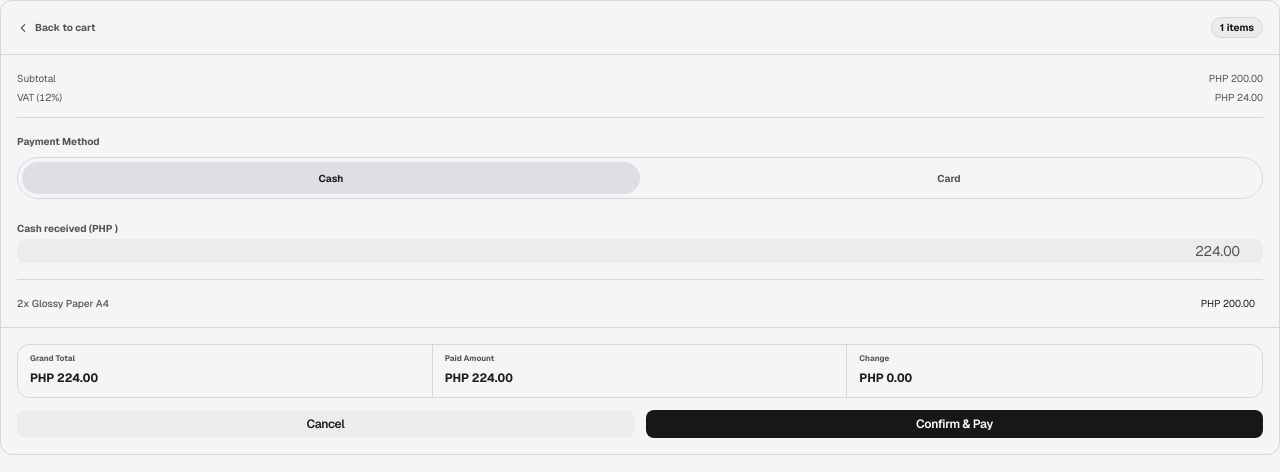
it: the cash tendered drives the totals strip › refuses to confirm while the customer is short
The image size is (1280, 472).
Type "100" into the number field labelled "Cash received (PHP )" at (640, 251), box [17,239,1263,263]
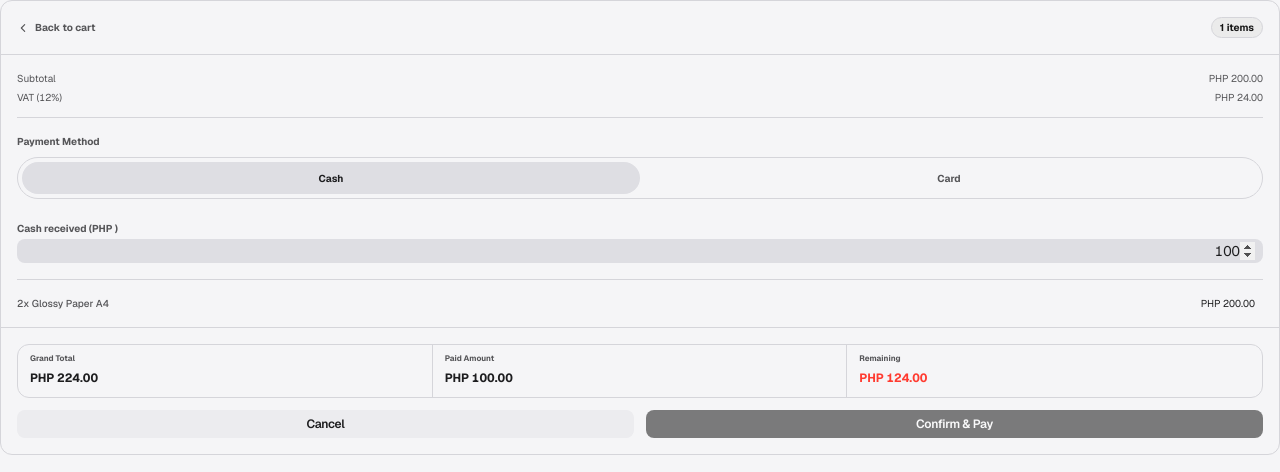
Now the text "Remaining" is shown, box [859,354,901,364]
Now the text "PHP 124.00" is shown, box [859,370,927,386]
Now the button "Confirm & Pay" is disabled, box [646,410,1263,438]
